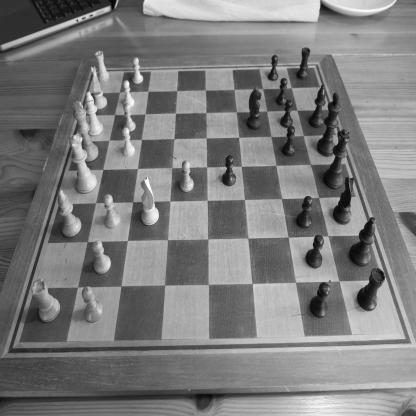black-bishop: (349, 217, 376, 266), (308, 84, 326, 128)
black-king: (323, 128, 351, 190), (316, 92, 341, 157)
black-knight: (332, 177, 355, 225), (246, 85, 262, 130)
black-pawn: (309, 282, 331, 318), (306, 234, 324, 269), (296, 195, 313, 229), (222, 155, 236, 186), (282, 125, 295, 157), (280, 99, 293, 128), (276, 77, 288, 106), (268, 54, 278, 81)
black-rook: (356, 268, 386, 311), (296, 47, 310, 80)
white-bishop: (57, 189, 82, 238), (85, 91, 104, 136)
white-king: (72, 100, 99, 162)
white-knight: (140, 176, 160, 226), (91, 66, 108, 110)
white-pawn: (82, 285, 103, 323), (92, 240, 112, 275), (103, 194, 121, 229), (180, 160, 194, 193), (122, 127, 135, 157), (123, 103, 136, 132), (132, 57, 144, 84), (123, 80, 135, 107)
white-queen: (67, 133, 98, 194)
white-rook: (31, 279, 61, 323), (94, 50, 110, 82)
